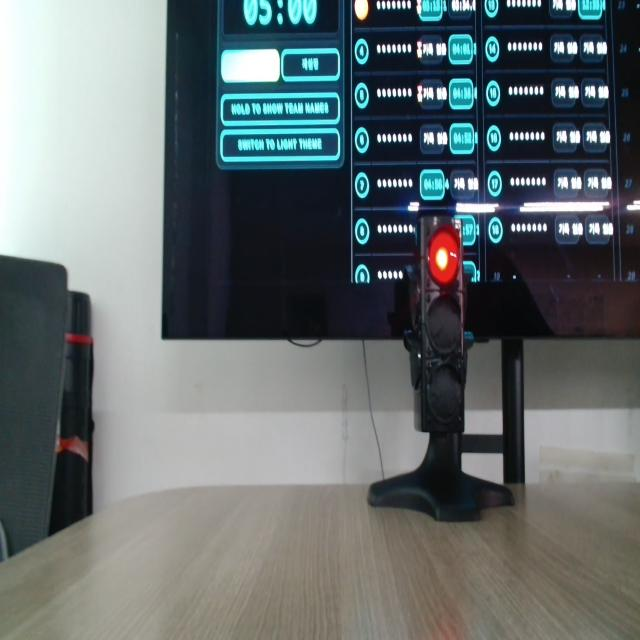red_light: (429, 226, 459, 286)
